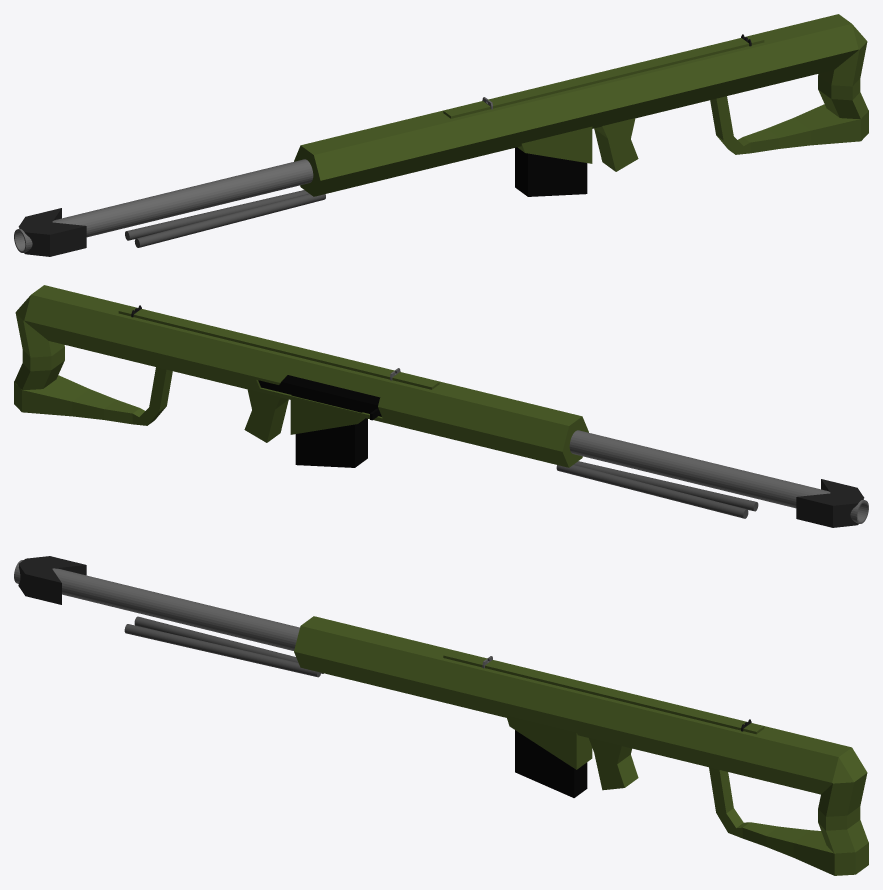
3 views of the same model, one above another, from view 1: azimuth 30°, elevation 25°; view 2: azimuth 150°, elevation 25°; view 3: azimuth 330°, elevation 25° (orthographic).
Visible parts, largest first — view 1: Cylinder, Cylinder.001, Cube.003, Cube, Cylinder.002, Cylinder.003; view 2: Cylinder, Cylinder.001, Cube.003, Cube, Cylinder.004, Cylinder.003, Cylinder.002; view 3: Cylinder, Cylinder.001, Cube.003, Cube, Cylinder.002, Cylinder.003.
Boxes of the visible parts, x1,y1,x2,y2 form: Cylinder: (294, 14, 868, 196); Cylinder.001: (14, 159, 313, 252); Cube.003: (515, 147, 587, 196); Cube: (18, 208, 86, 256); Cylinder.002: (134, 193, 325, 247); Cylinder.003: (125, 190, 308, 240); Cylinder: (14, 285, 588, 467); Cylinder.001: (569, 430, 868, 523); Cube.003: (295, 418, 367, 467); Cube: (796, 479, 864, 527); Cylinder.004: (258, 375, 381, 420); Cylinder.003: (556, 465, 748, 518); Cylinder.002: (573, 461, 758, 511); Cylinder: (294, 616, 868, 875); Cylinder.001: (14, 560, 299, 650); Cube.003: (515, 730, 587, 797); Cube: (18, 556, 86, 604); Cylinder.002: (124, 624, 320, 677); Cylinder.003: (134, 616, 323, 673).
Size of the model in its own units: 3652 by 495 by 230.
